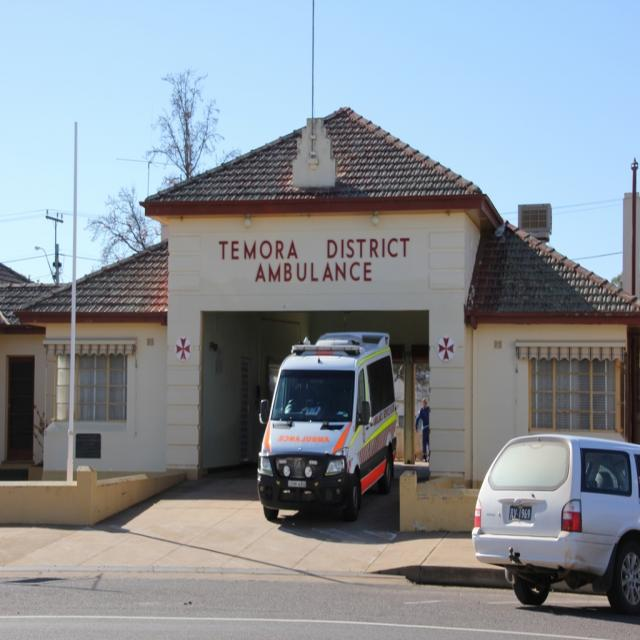Ambulance: (260, 330, 401, 525)
